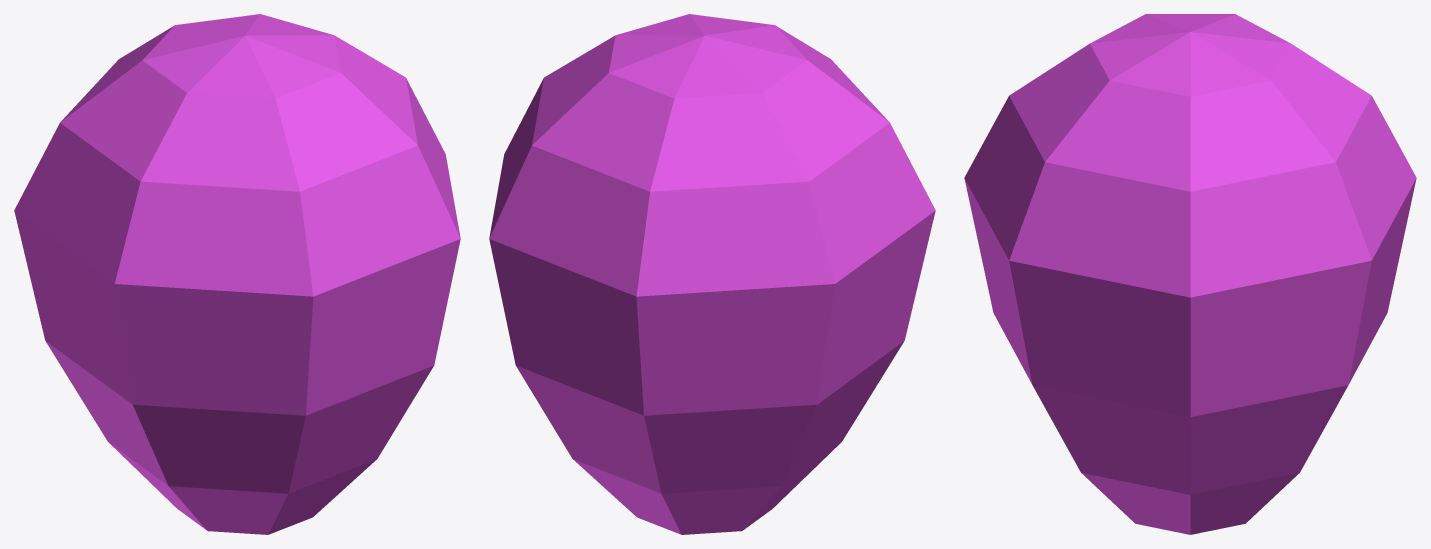
Rendered from bloon1.fbx.
3 views of the same model, side by side, from view 1: azimuth 30°, elevation 25°; view 2: azimuth 150°, elevation 25°; view 3: azimuth 270°, elevation 25° (orthographic).
Parts seen in each view (by area): view 1: pSphere10; view 2: pSphere10; view 3: pSphere10.
Part boxes in pixels (bbox=[...]): pSphere10: bbox=[14, 14, 460, 534]; pSphere10: bbox=[489, 14, 935, 534]; pSphere10: bbox=[964, 14, 1416, 534].
Size of the model in its own units: 1.4 by 1.75 by 1.44.
